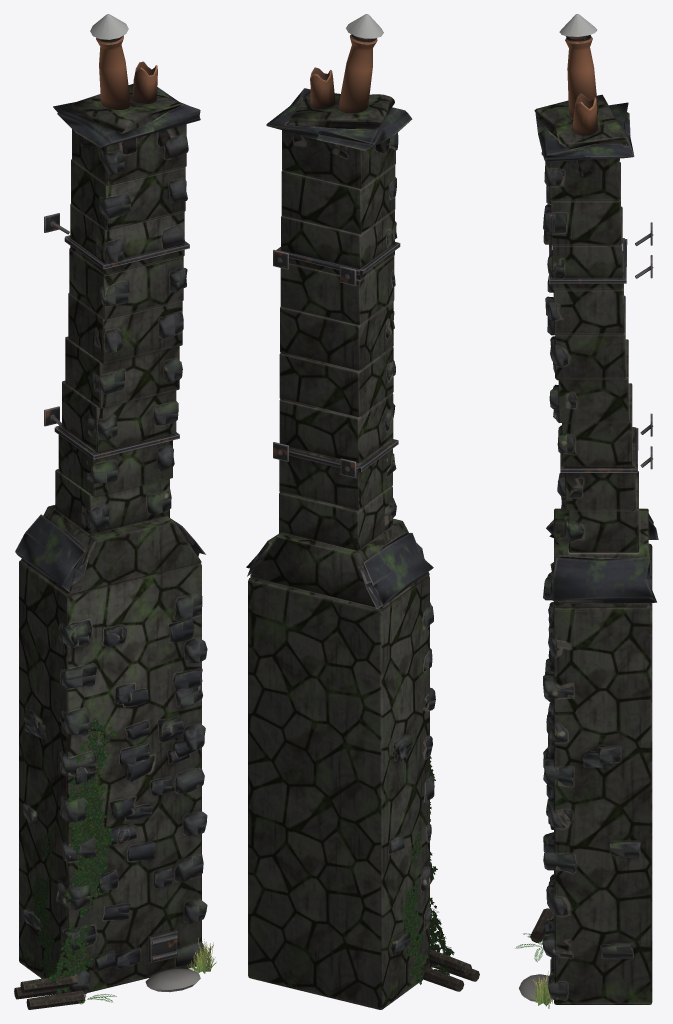
Rendered from HutChimney.fbx.
3 renders of one model, left to right at view 1: azimuth 30°, elevation 25°; view 2: azimuth 150°, elevation 25°; view 3: azimuth 270°, elevation 25°, orthographic.
Parts seen in each view (by area): view 1: HutChimney_Main, HutChimney_Leaves; view 2: HutChimney_Main, HutChimney_Leaves; view 3: HutChimney_Main, HutChimney_Leaves.
Boxes of the visible parts, x1,y1,x2,y2 form: HutChimney_Main: (14,14,207,1009); HutChimney_Leaves: (32,718,216,1004); HutChimney_Main: (246,14,479,1009); HutChimney_Leaves: (402,755,454,984); HutChimney_Main: (519,14,658,1004); HutChimney_Leaves: (515,933,554,1008).
Size of the model in its own units: 607 by 3009 by 427.
